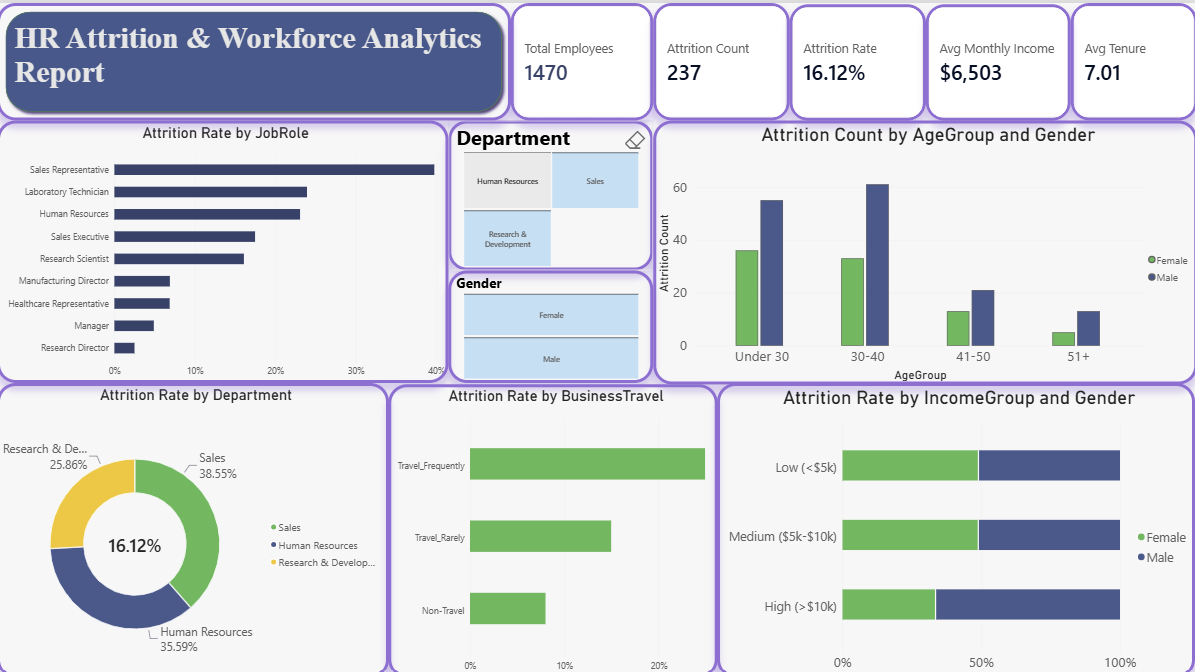

This screenshot's page, from the dashboard's own definition file:
{"tool":"powerbi","page":{"name":"Page 1","canvas":[1920,1080],"ordinal":0},"visuals":[{"type":"slicer","fields":{"Values":["HR_Employee_Attrition.Department"]},"box":[722,188,328,240],"z":0},{"type":"slicer","fields":{"Values":["HR_Employee_Attrition.Gender"]},"box":[722,428,328,180],"z":1000},{"type":"cardVisual","fields":{"Data":["HR_Employee_Attrition.Total Employees"]},"box":[822,0,228,188],"z":2000},{"type":"cardVisual","fields":{"Data":["HR_Employee_Attrition.Attrition Count"]},"box":[1050,0,218,188],"z":3000},{"type":"cardVisual","fields":{"Data":["HR_Employee_Attrition.Attrition Rate"]},"box":[1268,2,218,186],"z":4000},{"type":"cardVisual","fields":{"Data":["HR_Employee_Attrition.Avg Tenure"]},"box":[1718,0,202,188],"z":5000},{"type":"cardVisual","fields":{"Data":["HR_Employee_Attrition.Avg Monthly Income"]},"box":[1486,2,232,186],"z":6000},{"type":"donutChart","fields":{"Y":["HR_Employee_Attrition.Attrition Rate"],"Category":["HR_Employee_Attrition.Department"]},"box":[0,607.5,627.5,472.5],"z":7000},{"type":"barChart","fields":{"Y":["HR_Employee_Attrition.Attrition Rate"],"Category":["HR_Employee_Attrition.JobRole"]},"box":[0,188,722,420],"z":8000},{"type":"clusteredColumnChart","fields":{"Y":["HR_Employee_Attrition.Attrition Count"],"Category":["HR_Employee_Attrition.AgeGroup"],"Series":["HR_Employee_Attrition.Gender"]},"box":[1050,188,870,422],"z":9000},{"type":"hundredPercentStackedBarChart","fields":{"Y":["HR_Employee_Attrition.Attrition Rate"],"Category":["HR_Employee_Attrition.IncomeGroup"],"Series":["HR_Employee_Attrition.Gender"]},"box":[1152.5,607.5,765,472.5],"z":10000},{"type":"barChart","fields":{"Y":["HR_Employee_Attrition.Attrition Rate"],"Category":["HR_Employee_Attrition.BusinessTravel"]},"box":[625,610,527.5,470],"z":11000},{"type":"shape","box":[0,0,822,188],"z":12000},{"type":"textbox","box":[28.6,28.6,771.4,205.7],"z":13000}]}

Visuals, with their boxes in screenshot pixels (x1, y1, x2, y2), scaled from the page's 1920x1080 canvas onto the 1195x672 screenshot:
slicer - HR_Employee_Attrition.Department: <region>449, 117, 654, 266</region>
slicer - HR_Employee_Attrition.Gender: <region>449, 266, 654, 378</region>
cardVisual - HR_Employee_Attrition.Total Employees: <region>512, 0, 654, 117</region>
cardVisual - HR_Employee_Attrition.Attrition Count: <region>654, 0, 789, 117</region>
cardVisual - HR_Employee_Attrition.Attrition Rate: <region>789, 1, 925, 117</region>
cardVisual - HR_Employee_Attrition.Avg Tenure: <region>1069, 0, 1194, 117</region>
cardVisual - HR_Employee_Attrition.Avg Monthly Income: <region>925, 1, 1069, 117</region>
donutChart - HR_Employee_Attrition.Attrition Rate x HR_Employee_Attrition.Department: <region>0, 378, 391, 671</region>
barChart - HR_Employee_Attrition.Attrition Rate x HR_Employee_Attrition.JobRole: <region>0, 117, 449, 378</region>
clusteredColumnChart - HR_Employee_Attrition.Attrition Count x HR_Employee_Attrition.AgeGroup: <region>654, 117, 1194, 380</region>
hundredPercentStackedBarChart - HR_Employee_Attrition.Attrition Rate x HR_Employee_Attrition.IncomeGroup: <region>717, 378, 1193, 671</region>
barChart - HR_Employee_Attrition.Attrition Rate x HR_Employee_Attrition.BusinessTravel: <region>389, 380, 717, 671</region>
shape: <region>0, 0, 512, 117</region>
textbox: <region>18, 18, 498, 146</region>
